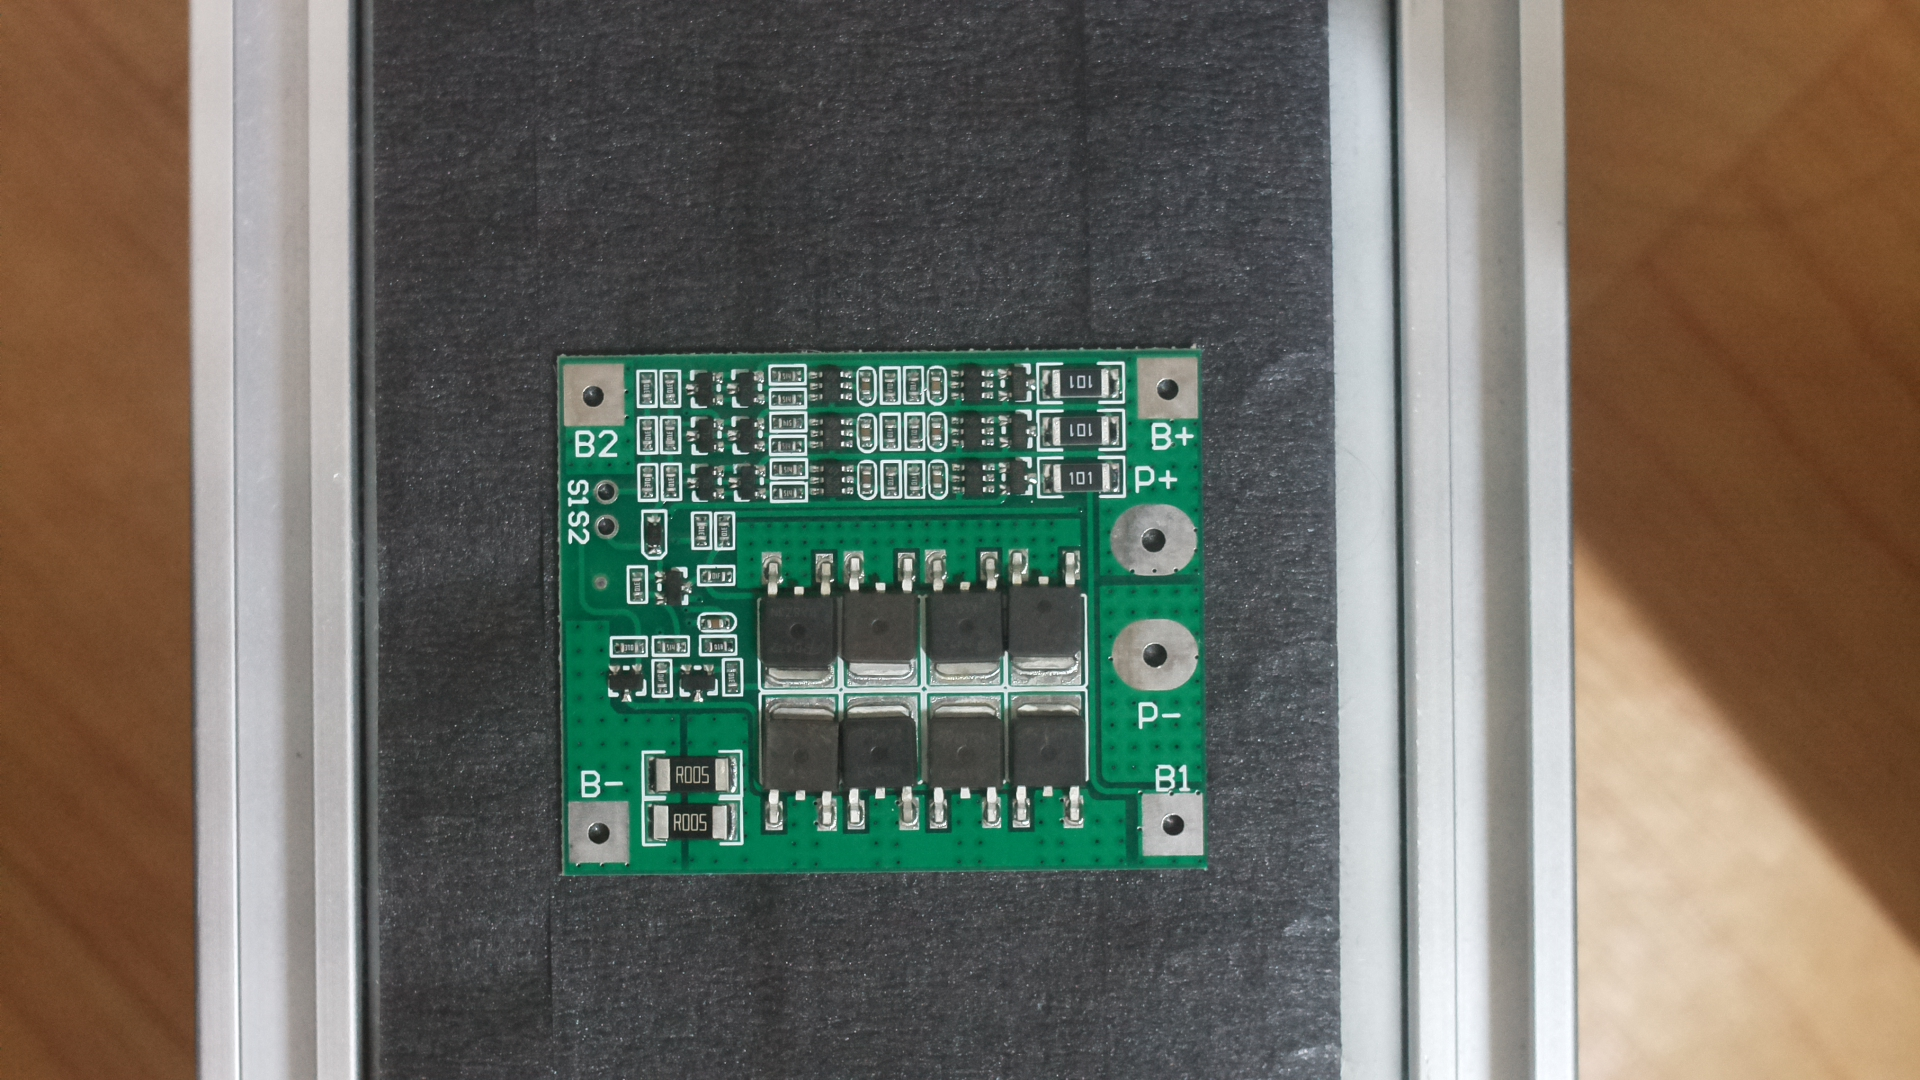C_Normal: (546, 320, 1225, 895)
